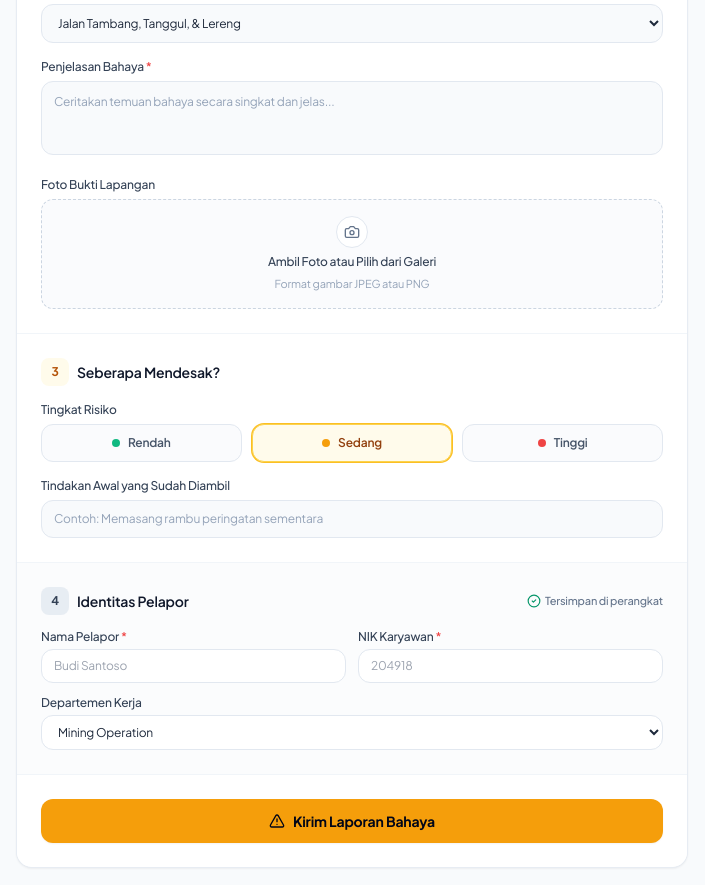
HazardReportForm Component › validates required fields before submitting
(page scrolled)
Click the button "Kirim Laporan Bahaya" at (352, 821), box [41,799,663,843]
(page scrolled)
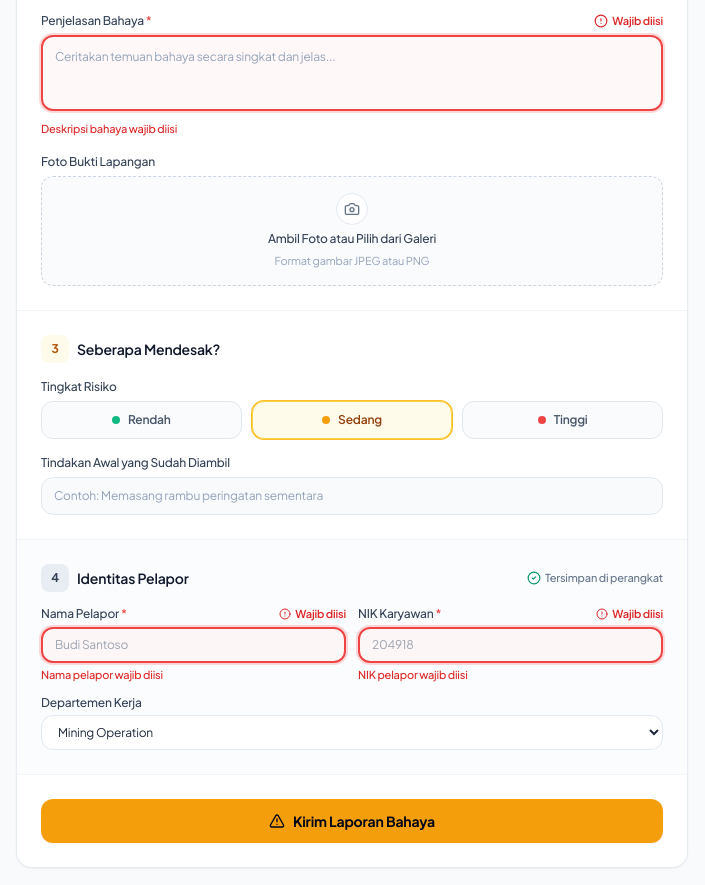
Result: the text "Nama pelapor wajib diisi" is shown at [41,668,163,680]
